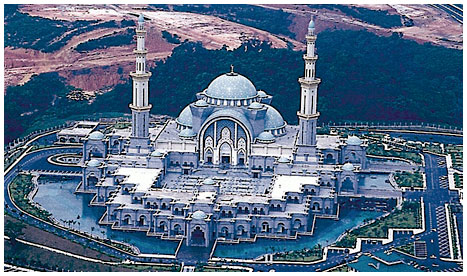Mosque: (99, 14, 355, 225)
